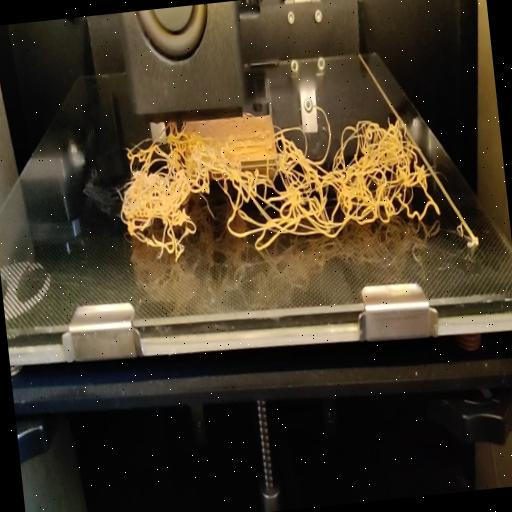spaghetti: (109, 93, 441, 267)
